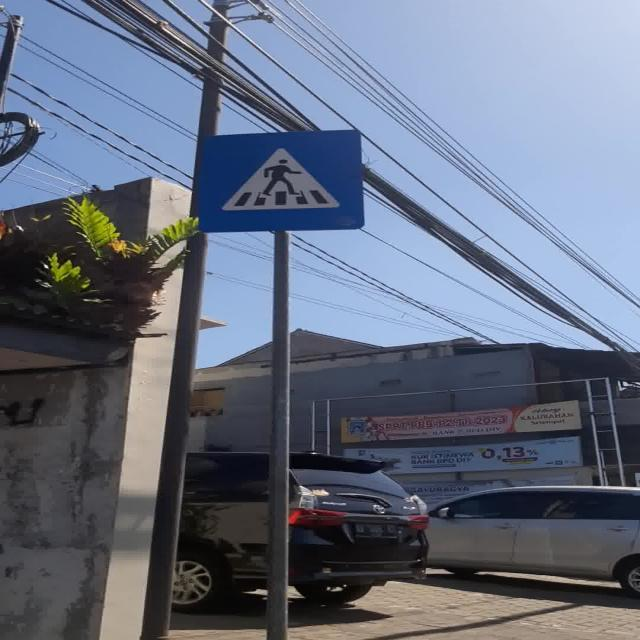Perintah Jalur Penyebrangan: (198, 129, 365, 232)
